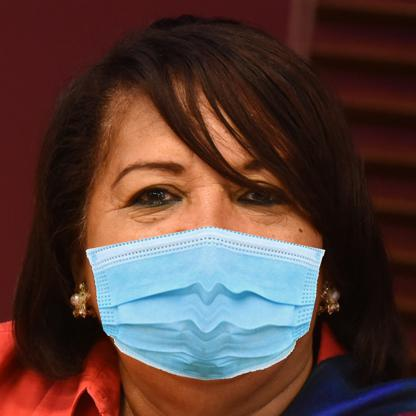mask: (80, 228, 330, 380)
